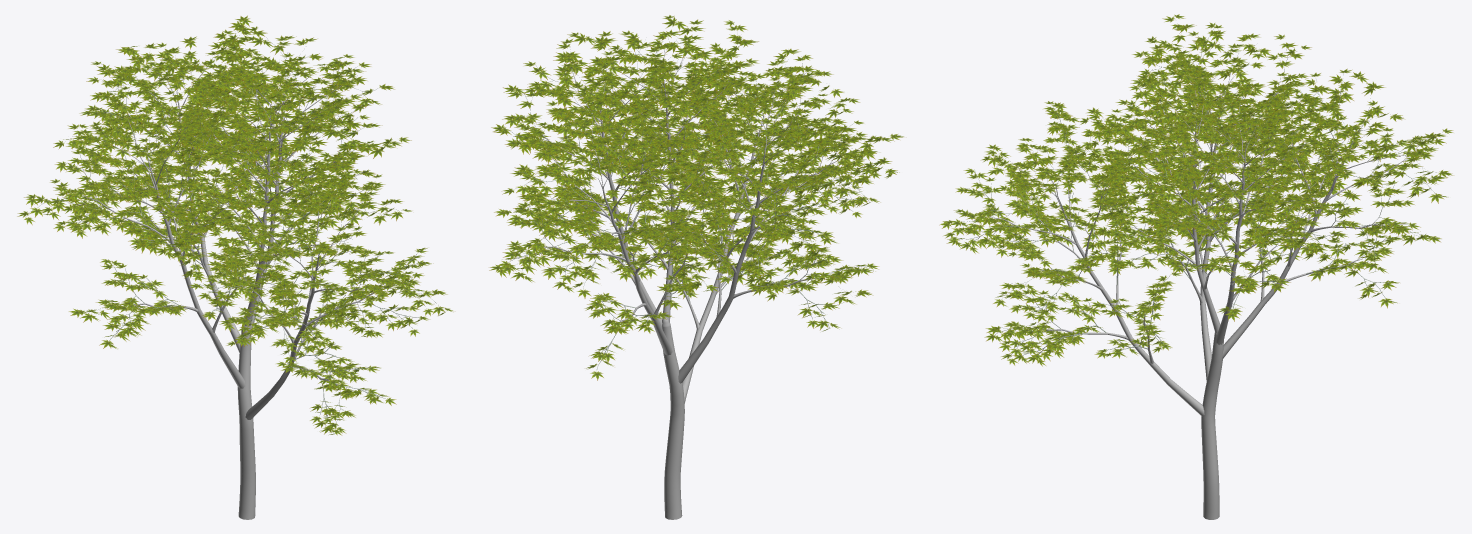
3 views of the same model, side by side, from view 1: azimuth 30°, elevation 25°; view 2: azimuth 150°, elevation 25°; view 3: azimuth 270°, elevation 25° (orthographic). The views are drawn at different scales.
Visible parts, largest first — view 1: WGJ_Maple01_02..Shape; view 2: WGJ_Maple01_02..Shape; view 3: WGJ_Maple01_02..Shape.
Boxes of the visible parts, x1,y1,x2,y2 form: WGJ_Maple01_02..Shape: (17,15,452,519); WGJ_Maple01_02..Shape: (489,15,903,519); WGJ_Maple01_02..Shape: (939,14,1453,519).
Bounding box in the file's own units: 2.56 × 3.23 × 3.35.
3 materials, 1 textured.
